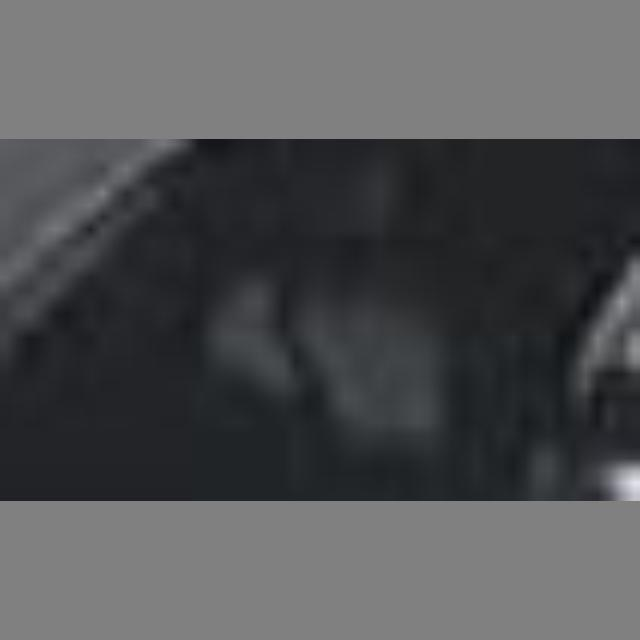pakai: (193, 224, 471, 465)
